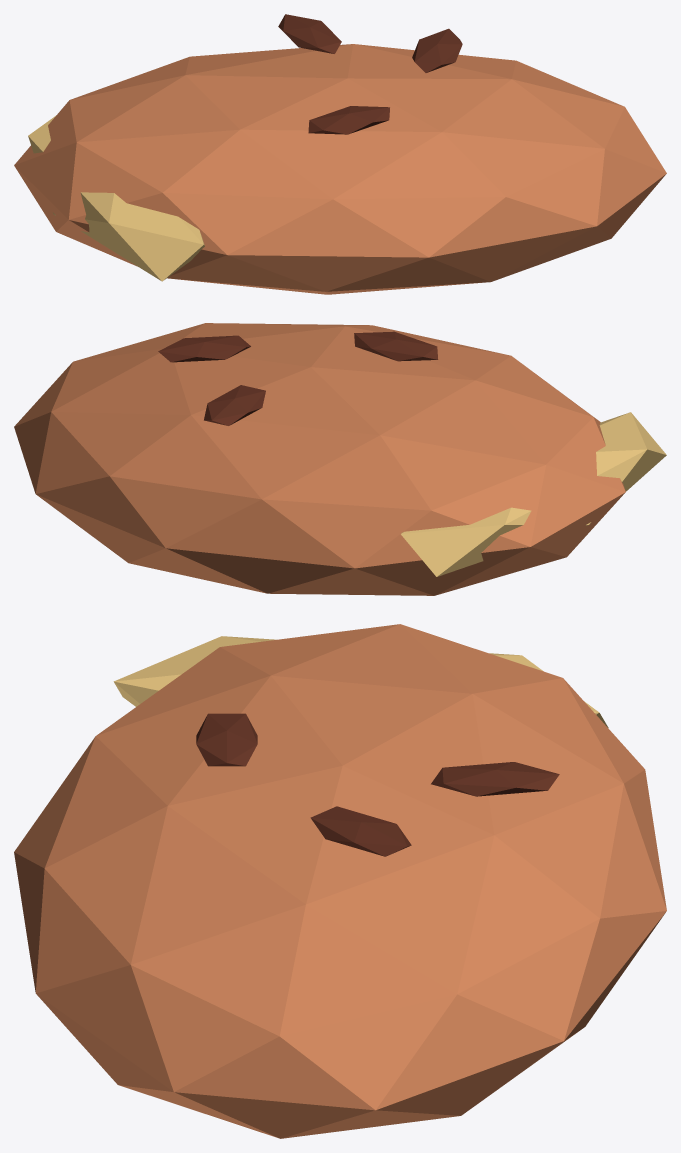
File: FTF_Ingredient_FriedPork.glb
3 views of the same model, one above another, from view 1: azimuth 30°, elevation 25°; view 2: azimuth 150°, elevation 25°; view 3: azimuth 270°, elevation 25° (orthographic). The views are drawn at different scales.
Parts seen in each view (by area): view 1: FTF_Ingredient_FriedPork_StaticMesh; view 2: FTF_Ingredient_FriedPork_StaticMesh; view 3: FTF_Ingredient_FriedPork_StaticMesh.
Boxes of the visible parts, x1,y1,x2,y2 form: FTF_Ingredient_FriedPork_StaticMesh: (14,14,666,294); FTF_Ingredient_FriedPork_StaticMesh: (14,323,666,595); FTF_Ingredient_FriedPork_StaticMesh: (14,624,666,1138).
Size of the model in its own units: 0.8719 by 0.2682 by 0.6328.
